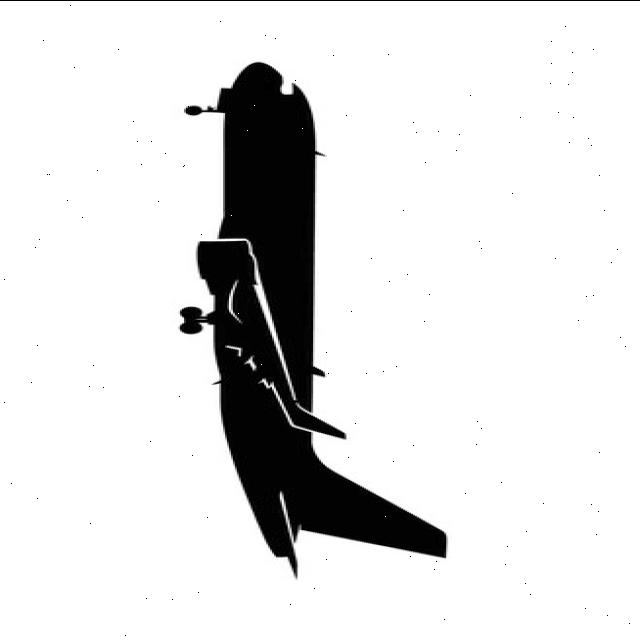aircraft: (50, 44, 484, 606)
